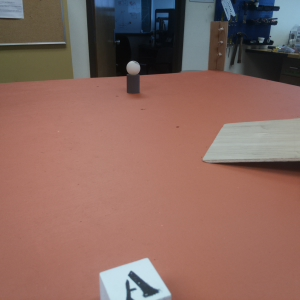blockA: (98, 257, 171, 300)
corner: (210, 19, 228, 72)
obstacle: (122, 59, 144, 95)
slope: (203, 118, 300, 162)
